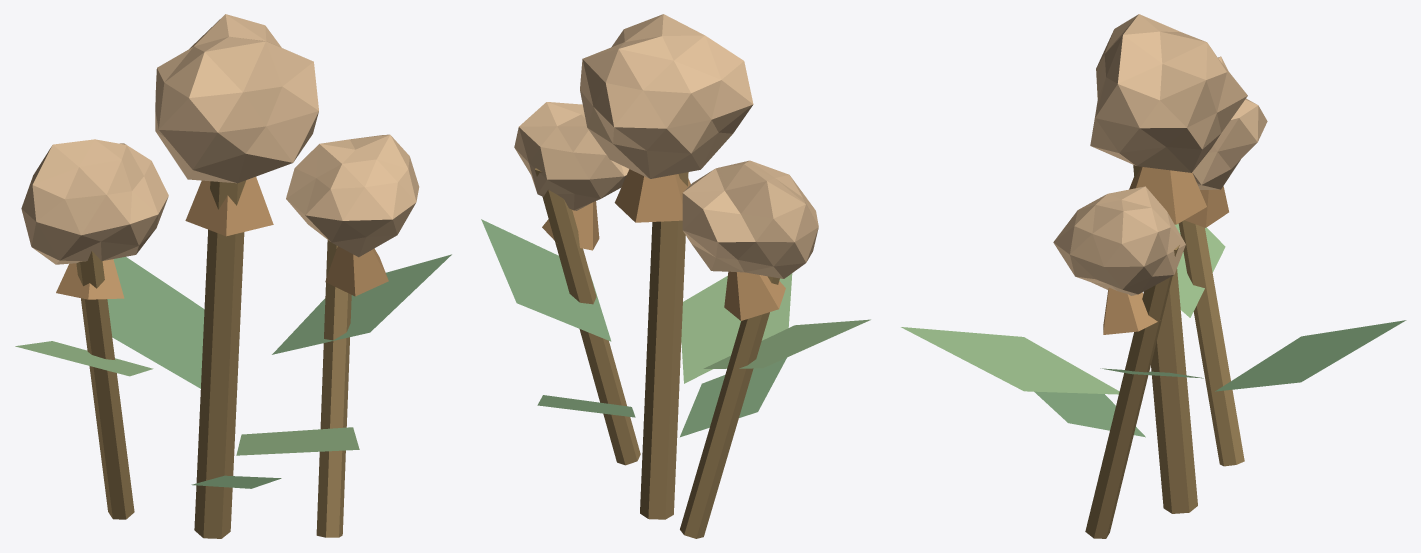
File: t2_fiber_full.glb
3 views of the same model, side by side, from view 1: azimuth 30°, elevation 25°; view 2: azimuth 150°, elevation 25°; view 3: azimuth 270°, elevation 25° (orthographic). The views are drawn at different scales.
Parts seen in each view (by area): view 1: CenterCottonBoll, LeftCottonBoll, CenterStem, RightCottonBoll, BackLeaf, LeftStem, RightStem, RightLeaf, CenterHusk, FrontLeaf, RightHusk, LeftLeaf (+2 smaller); view 2: CenterCottonBoll, LeftCottonBoll, CenterStem, RightCottonBoll, RightStem, LeftStem, RightLeaf, FrontLeaf, CenterHusk, LowLeaf, LeftLeaf, LeftHusk (+2 smaller); view 3: CenterCottonBoll, RightCottonBoll, CenterStem, FrontLeaf, RightStem, LeftStem, BackLeaf, LeftCottonBoll, CenterHusk, LowLeaf, RightHusk, LeftLeaf (+1 smaller).
Part boxes in pixels (x1,y1,x2,y2): CenterCottonBoll: (155, 14, 318, 183); LeftCottonBoll: (21, 139, 168, 264); CenterStem: (194, 180, 245, 538); RightCottonBoll: (286, 134, 419, 257); BackLeaf: (107, 257, 204, 388); LeftStem: (76, 251, 134, 519); RightStem: (316, 240, 351, 537); RightLeaf: (272, 254, 451, 354); CenterHusk: (185, 176, 273, 236); FrontLeaf: (236, 427, 359, 455); RightHusk: (325, 246, 388, 296); LeftLeaf: (15, 341, 153, 376); CenterCottonBoll: (580, 14, 753, 178); LeftCottonBoll: (682, 160, 818, 278); CenterStem: (640, 172, 688, 519); RightCottonBoll: (514, 102, 629, 210); RightStem: (535, 168, 640, 465); LeftStem: (680, 276, 779, 538); RightLeaf: (481, 219, 611, 341); FrontLeaf: (681, 273, 792, 383); CenterHusk: (614, 169, 690, 222); LowLeaf: (680, 357, 786, 437); LeftLeaf: (703, 319, 870, 368); LeftHusk: (724, 271, 785, 320); CenterCottonBoll: (1090, 14, 1247, 172); RightCottonBoll: (1053, 186, 1185, 295); CenterStem: (1133, 165, 1197, 513); FrontLeaf: (901, 327, 1119, 394); RightStem: (1085, 245, 1179, 538); LeftStem: (1178, 220, 1244, 466); BackLeaf: (1215, 320, 1406, 391); LeftCottonBoll: (1192, 56, 1267, 189); CenterHusk: (1129, 167, 1206, 224); LowLeaf: (1034, 391, 1145, 437); RightHusk: (1103, 287, 1157, 334); LeftLeaf: (1175, 223, 1225, 317).
Bounding box in the file's own units: 0.9519 × 1.08 × 1.02.
